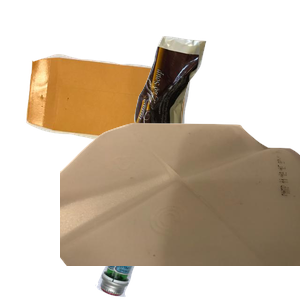glass: (93, 143, 284, 300)
paper: (23, 51, 206, 189)
plastic: (60, 120, 300, 300)
trash: (131, 34, 300, 177)
